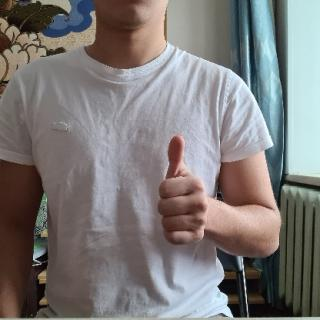ALIF: (157, 132, 207, 251)
